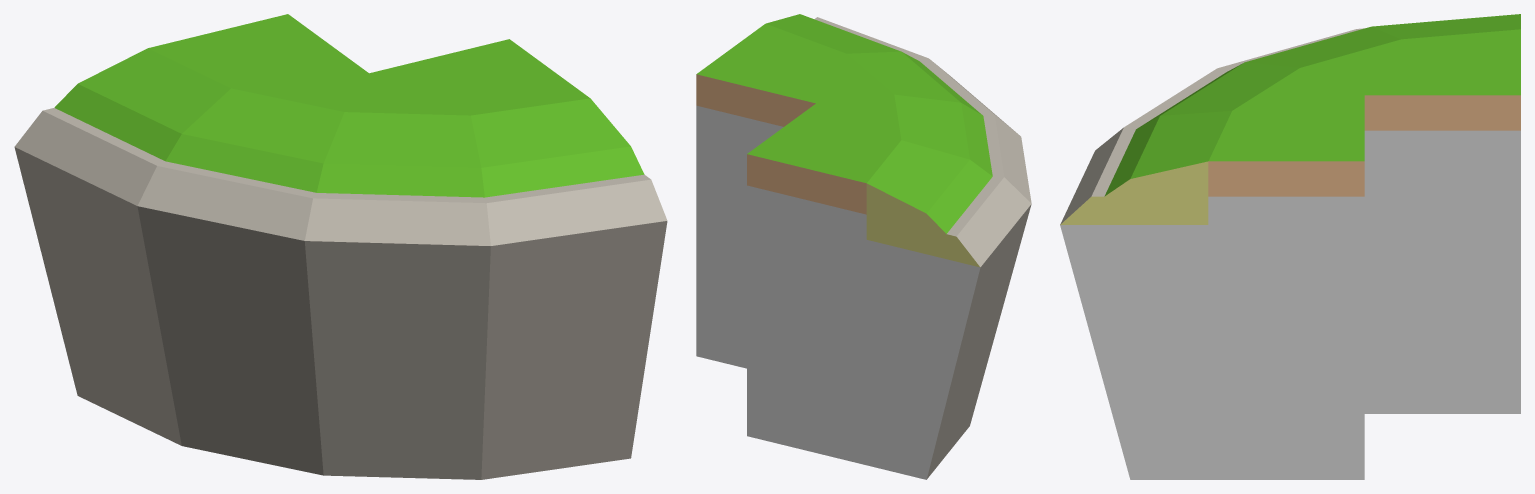
File: Basic_Curve_Outer_3x3_Top.glb
3 renders of one model, left to right at view 1: azimuth 30°, elevation 25°; view 2: azimuth 150°, elevation 25°; view 3: azimuth 270°, elevation 25°, orthographic. The views are drawn at different scales.
Visible parts, largest first — view 1: Basic_Curve_Outer_3x3_Top; view 2: Basic_Curve_Outer_3x3_Top; view 3: Basic_Curve_Outer_3x3_Top.
Boxes of the visible parts, x1,y1,x2,y2 form: Basic_Curve_Outer_3x3_Top: (14,14,667,479); Basic_Curve_Outer_3x3_Top: (696,14,1031,479); Basic_Curve_Outer_3x3_Top: (1060,14,1520,479).
Bounding box in the file's own units: 295 × 225 × 295.
